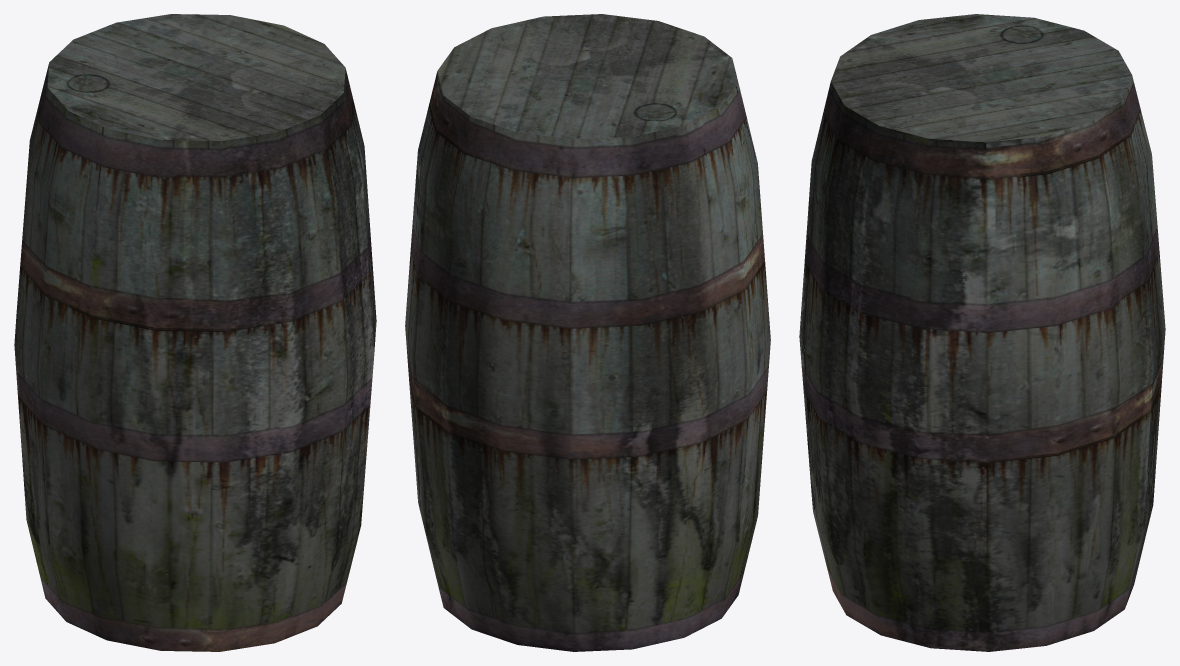
The model's file is Barrel_LOD02.fbx.
3 views of the same model, side by side, from view 1: azimuth 30°, elevation 25°; view 2: azimuth 150°, elevation 25°; view 3: azimuth 270°, elevation 25° (orthographic).
Parts seen in each view (by area): view 1: Mesh Object; view 2: Mesh Object; view 3: Mesh Object.
Part boxes in pixels (box(x1,y1,x2,y2)): Mesh Object: box(14, 14, 376, 651); Mesh Object: box(405, 14, 770, 651); Mesh Object: box(799, 14, 1165, 651).
Bounding box in the file's own units: 0.7084 × 1.09 × 0.7084.
